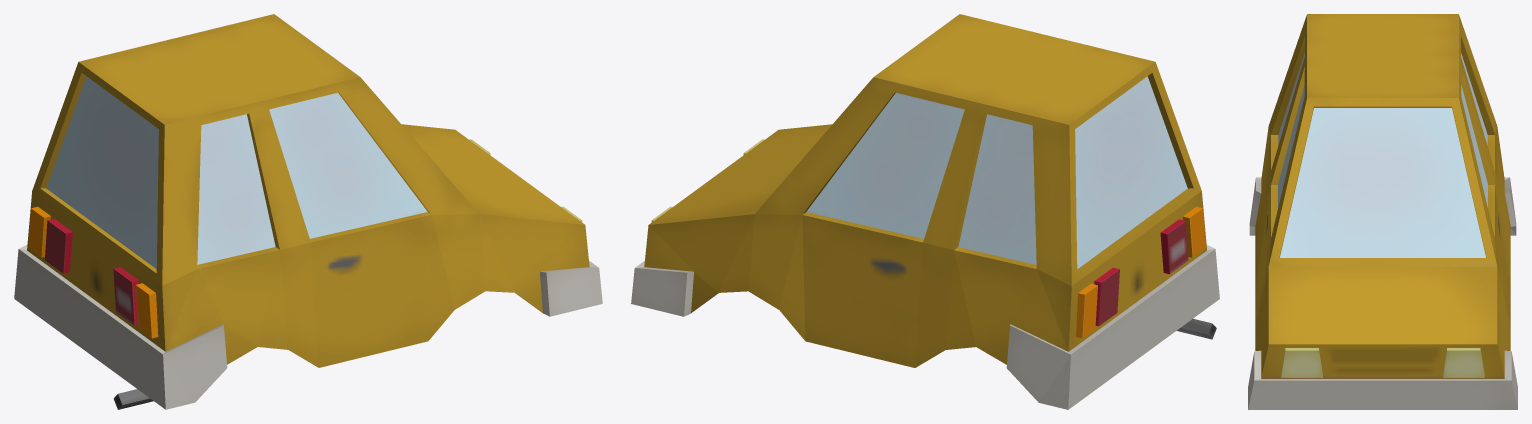
File: co_CarB_02.fbx
The picture shows the model from 3 angles, left to right: view 1: azimuth 30°, elevation 25°; view 2: azimuth 150°, elevation 25°; view 3: azimuth 270°, elevation 25°; orthographic projection. The views are drawn at different scales.
Visible parts, largest first — view 1: CarB_02; view 2: CarB_02; view 3: CarB_02.
Boxes of the visible parts, x1,y1,x2,y2 form: CarB_02: (14, 14, 602, 409); CarB_02: (631, 14, 1219, 409); CarB_02: (1248, 14, 1517, 409).
Size of the model in its own units: 389 by 219 by 226.
